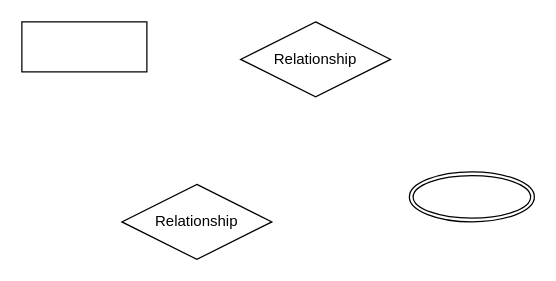
This 556x281 diagram has some shape labels left out. Each missing label, with the centre of its shape:
"Entity" goes at point 84,46.
"phone" goes at point 471,196.
